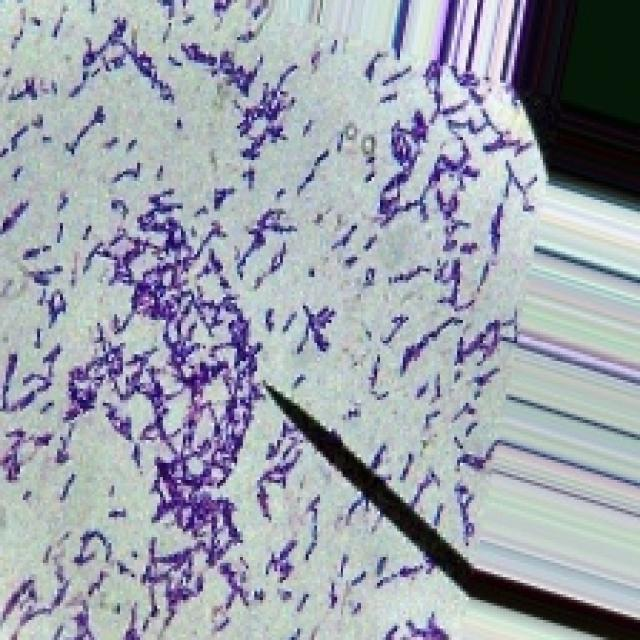Spiral_bacteria: (0, 0, 549, 637)
